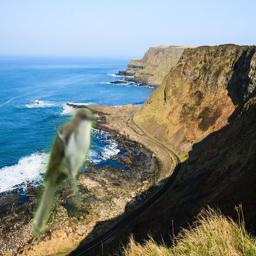Cuckoo: (33, 108, 96, 238)
